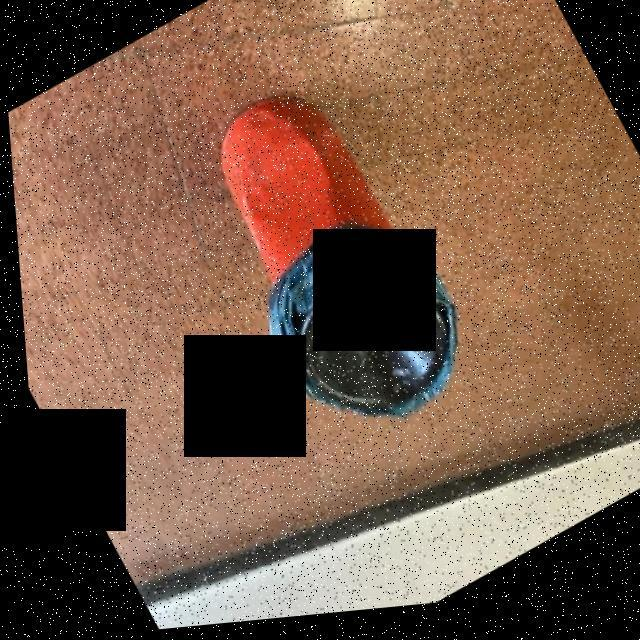bin: (118, 30, 528, 527)
